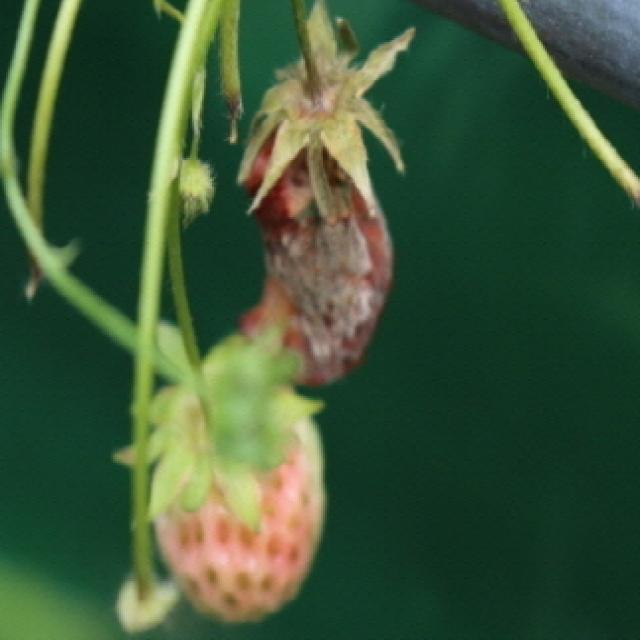Gray Mold: (236, 47, 396, 389)
